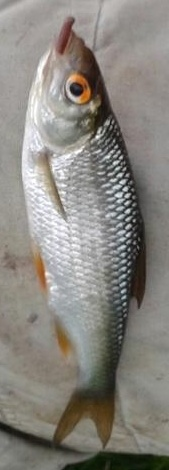Rutilus rutilus: (20, 20, 149, 450)
